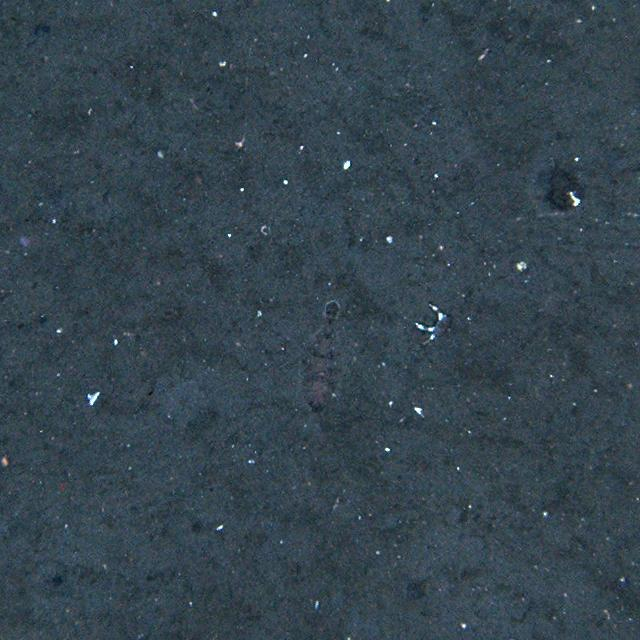flatfish: (296, 296, 350, 416)
